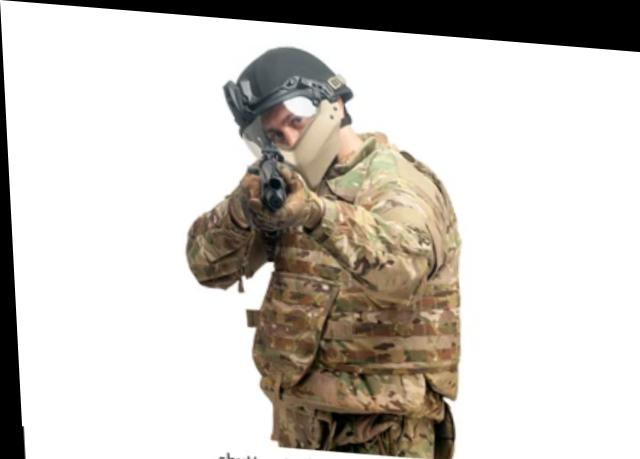other: (213, 39, 465, 450)
